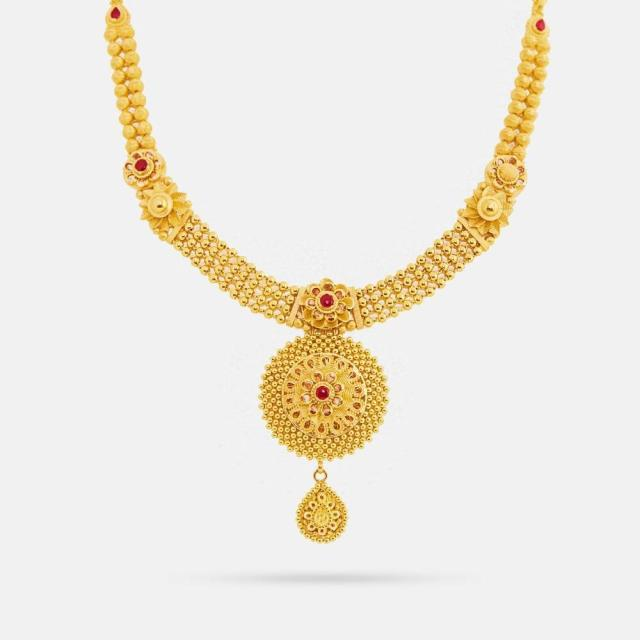missing gem: (314, 504, 330, 526), (499, 164, 517, 182)
